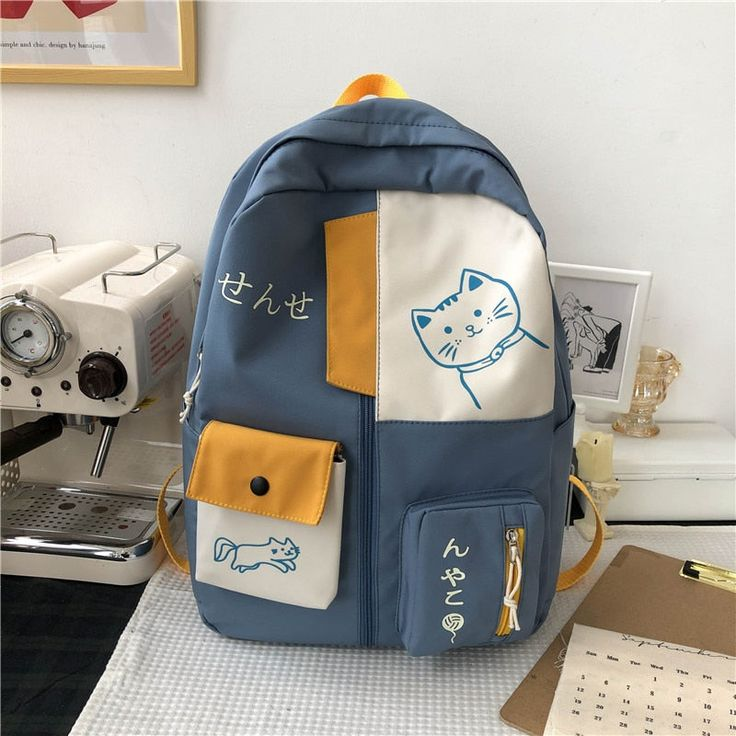nylon: (182, 75, 577, 657)
